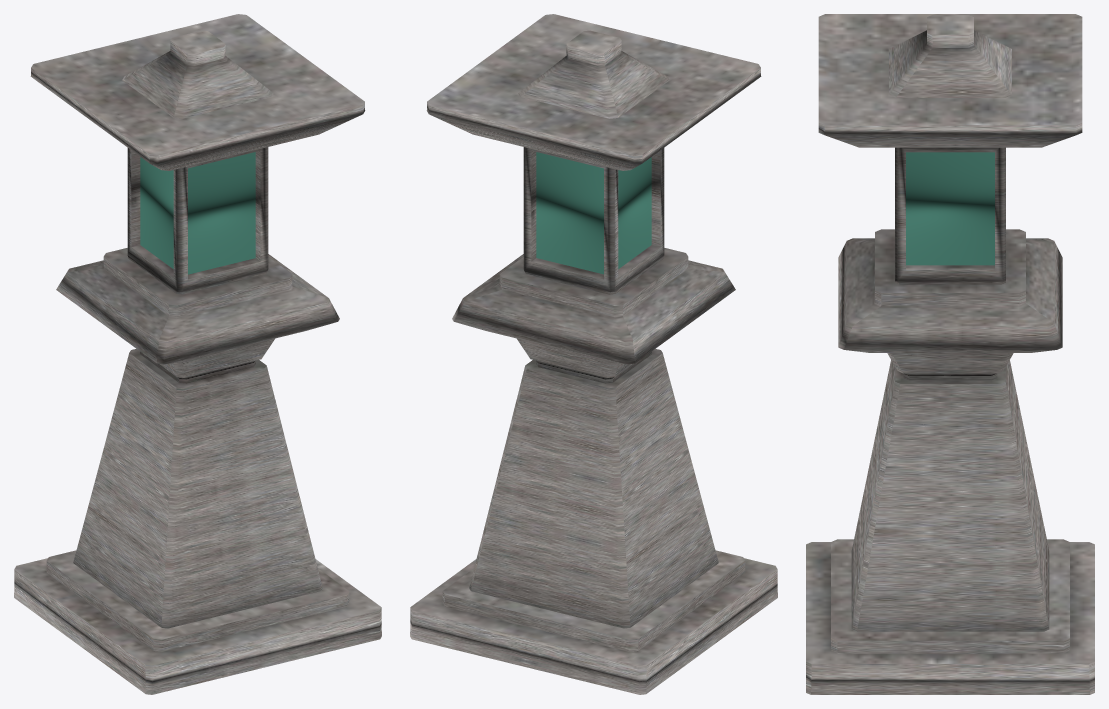
File: Lightpiller01.fbx
The picture shows the model from 3 angles, left to right: view 1: azimuth 30°, elevation 25°; view 2: azimuth 150°, elevation 25°; view 3: azimuth 270°, elevation 25°; orthographic projection. The views are drawn at different scales.
Parts seen in each view (by area): view 1: pCube1; view 2: pCube1; view 3: pCube1.
Part boxes in pixels (x1=…): pCube1: x1=14, y1=14, x2=381, y2=694; pCube1: x1=410, y1=14, x2=777, y2=694; pCube1: x1=806, y1=14, x2=1094, y2=694.
Size of the model in its own units: 5.12 by 11.92 by 5.12.
